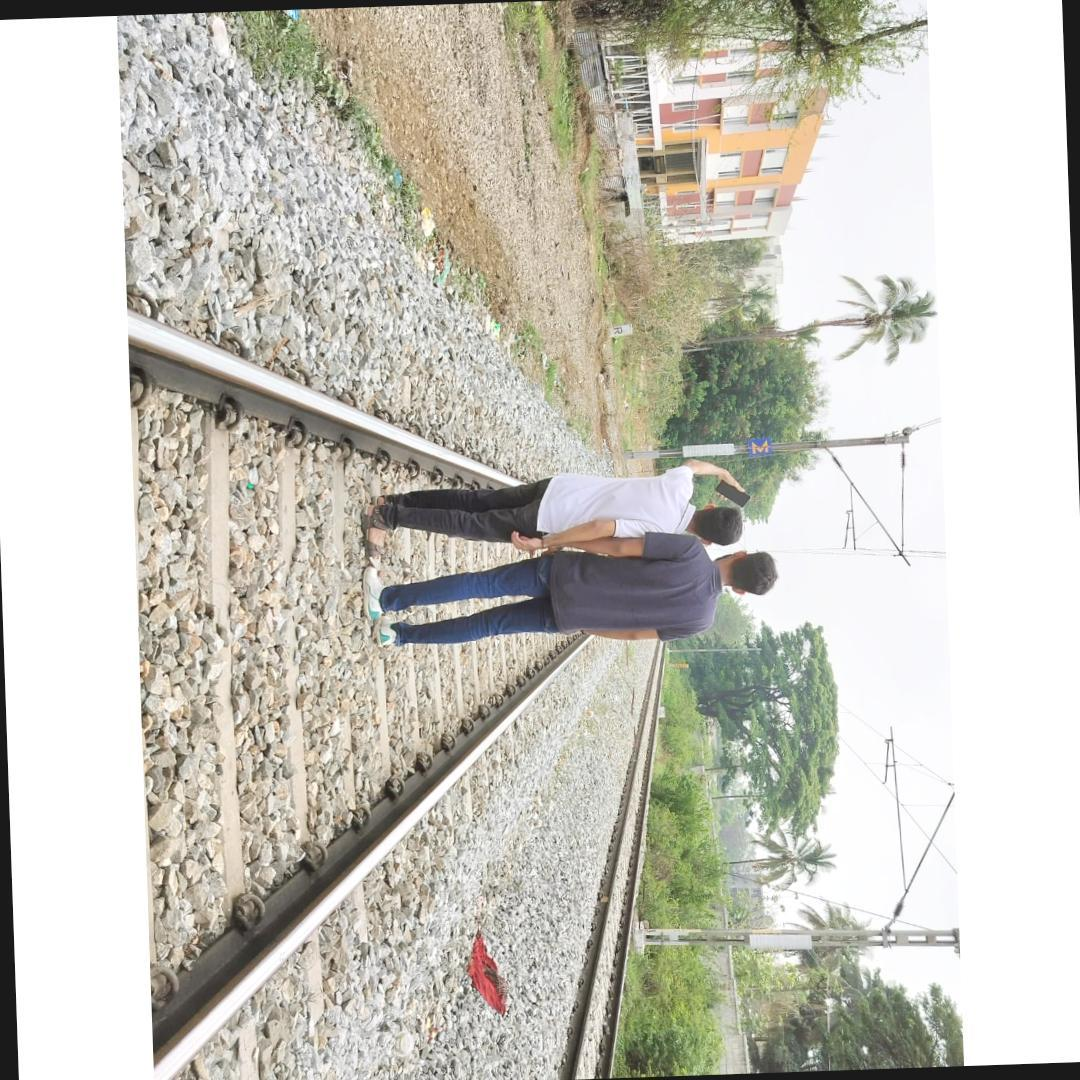standing: (356, 532, 778, 652), (359, 452, 754, 571)
track: (126, 296, 604, 1080)
